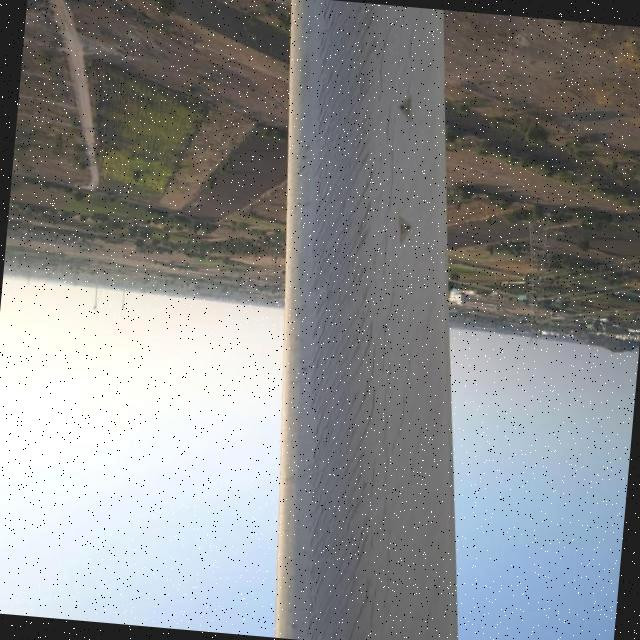Dirt: (305, 5, 431, 640)
Pin Hole: (394, 98, 412, 119), (402, 218, 418, 240)
